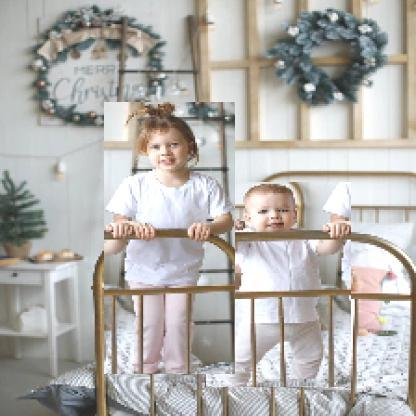child: (105, 103, 237, 376), (206, 183, 353, 389)
